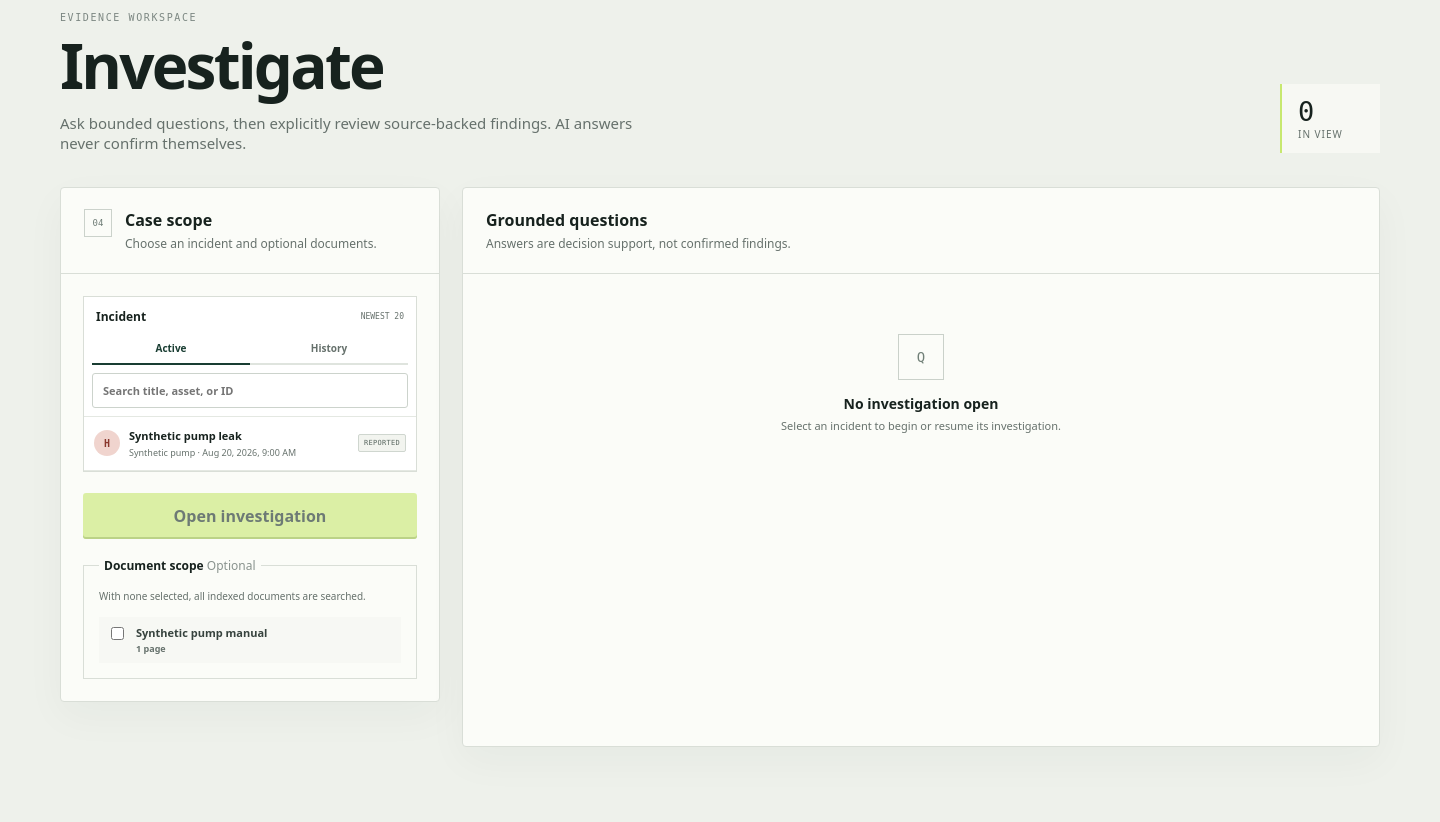
Test: Investigation workspace › moves a reported incident to investigating before opening its investigation
Click the button with aria-label "Select Synthetic pump leak incident": coordinates (250, 443) [84,417,416,470]
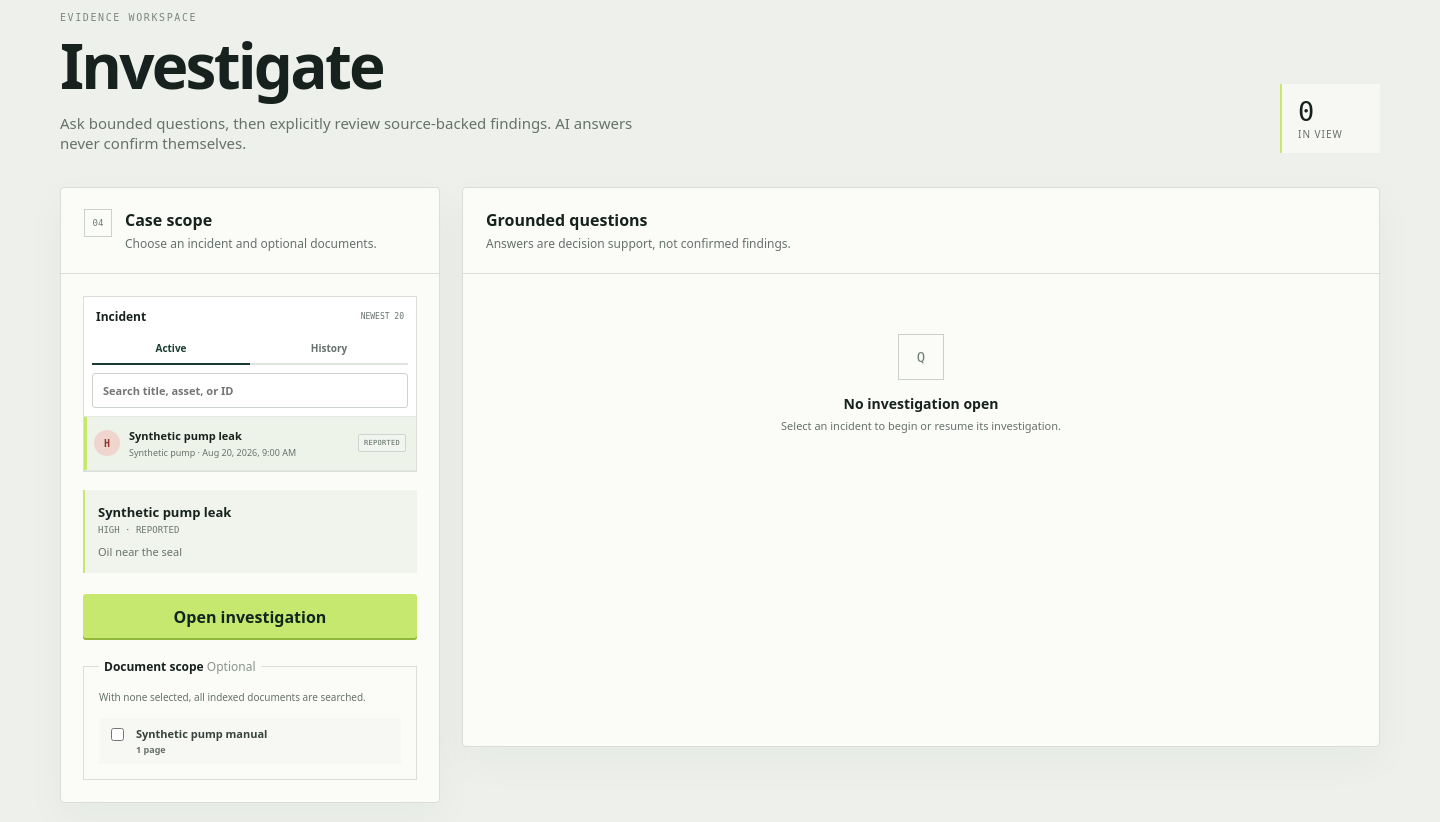
Click the button "Open investigation": coordinates (250, 617) [83,594,417,640]
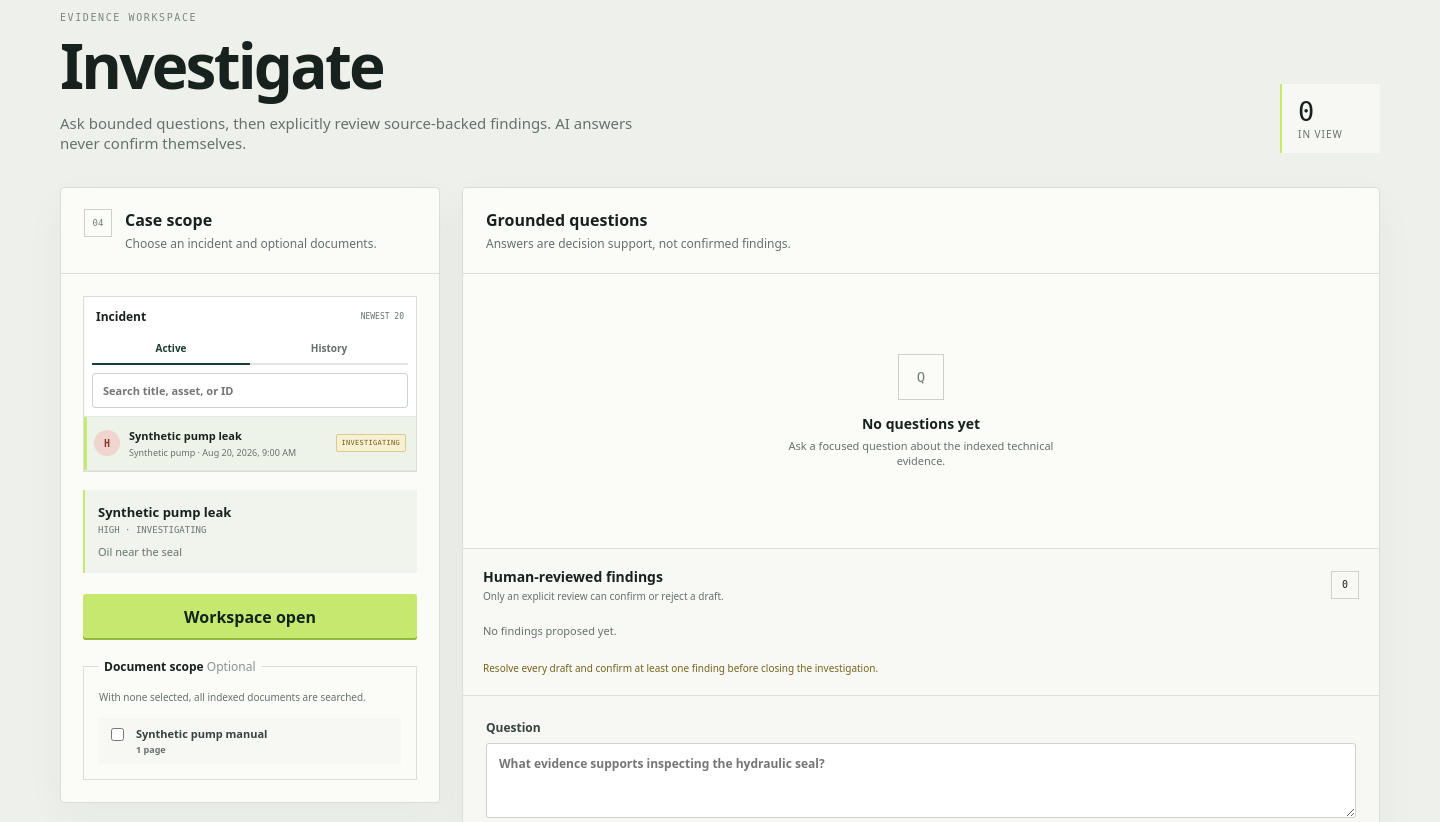
Check: the heading "No questions yet" is shown, box [862,414,980,433]
Check: the text "HIGH · INVESTIGATING" is shown, box [98,525,206,535]
